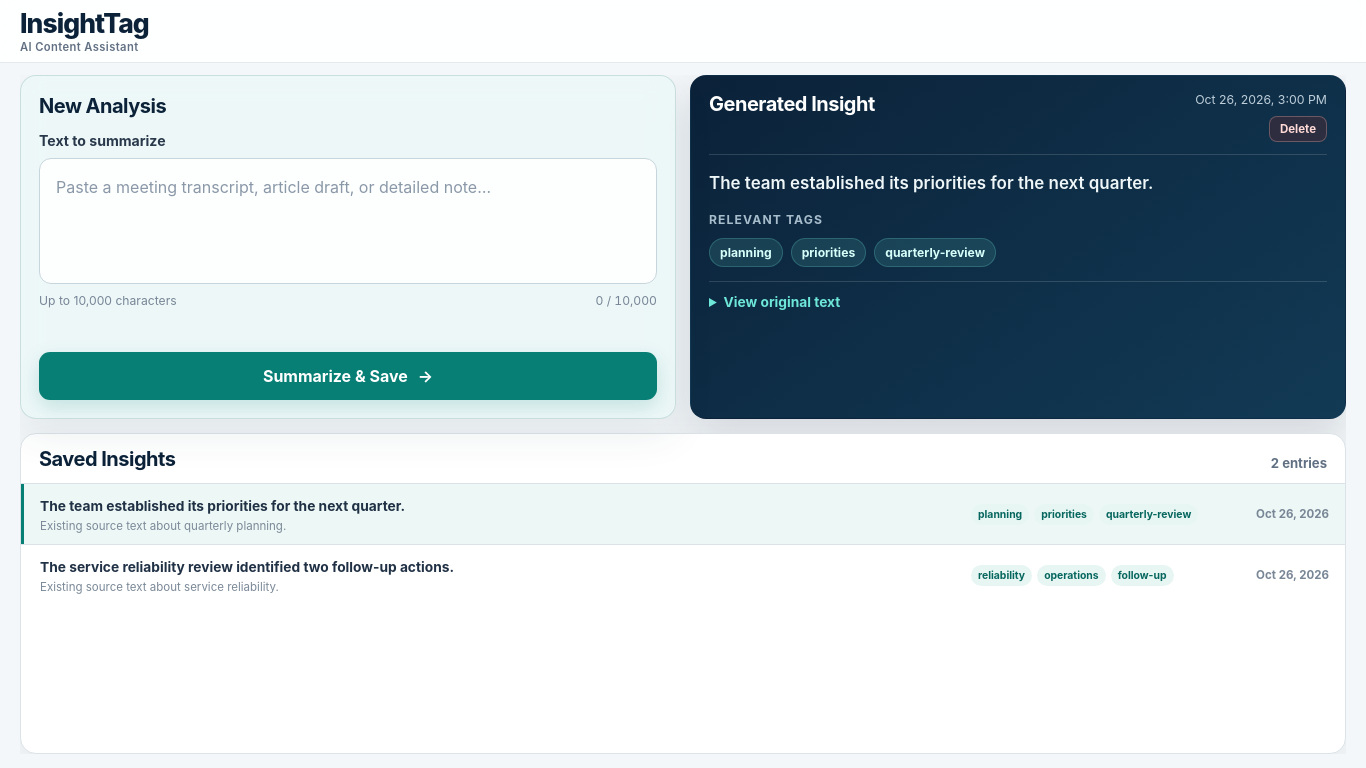
Test: InsightTag smoke flow › ignores a stale detail response after a newer selection
Check: the text "The team established its priorities for the next quarter." below "Generated Insight" is shown, box [709,172,1153,192]
Check: the heading "Generated Insight" is shown, box [709,92,875,116]
Click the button "The service reliability review identified two follow-up actions.": (247, 567) [21,545,1345,605]
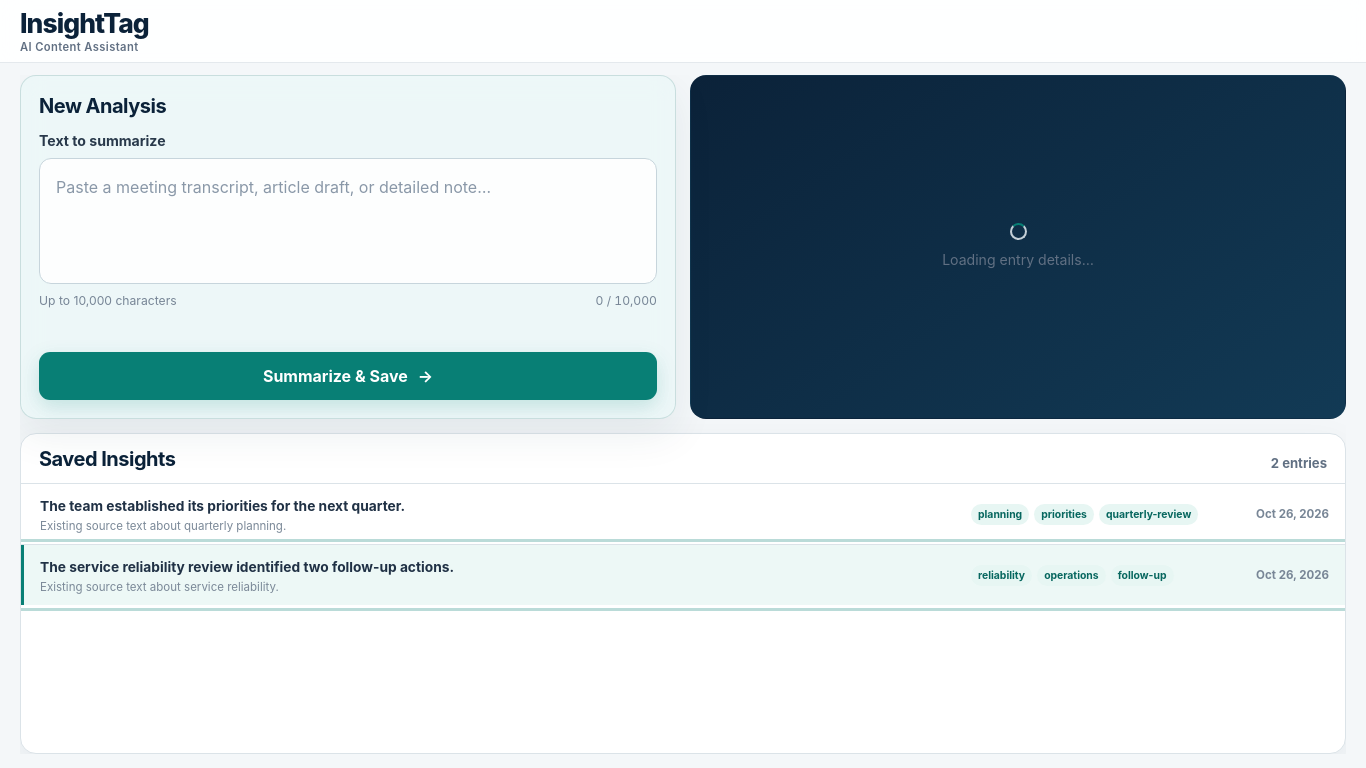
Click the button "The team established its priorities for the next quarter.": (223, 506) [21,484,1345,544]
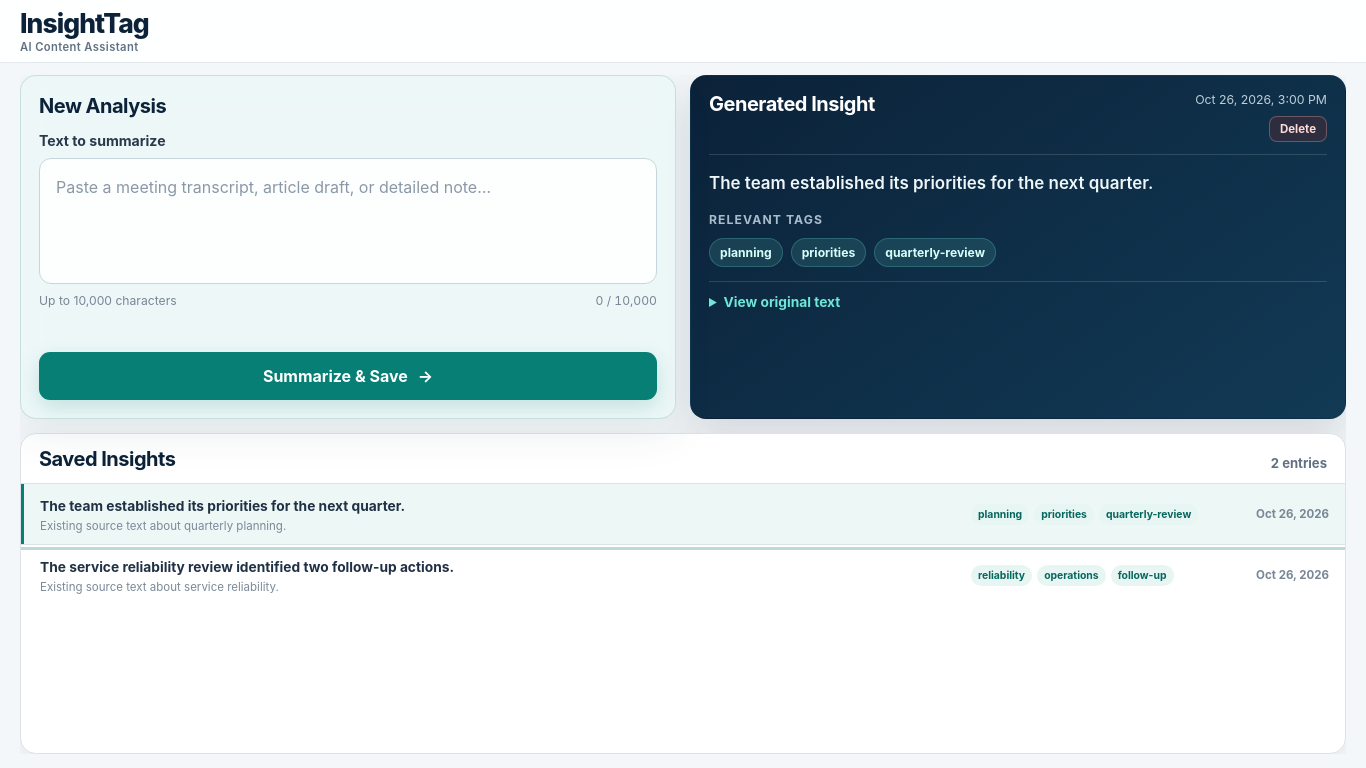
Check: the text "The team established its priorities for the next quarter." below "Generated Insight" is shown, box [709,172,1153,192]
